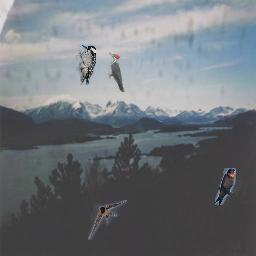Swallow: (88, 200, 127, 240), (215, 168, 236, 205)
Woodpecker: (75, 45, 96, 85), (108, 52, 125, 92)
